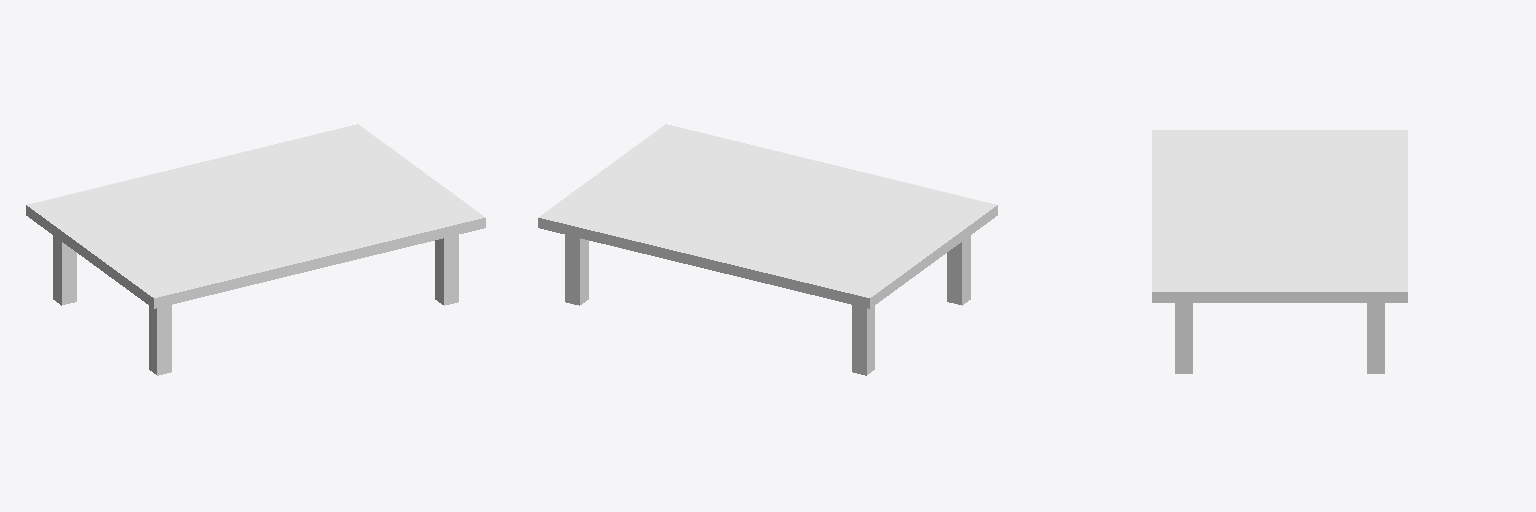
Rendered from Table2.obj.
3 renders of one model, left to right at view 1: azimuth 30°, elevation 25°; view 2: azimuth 150°, elevation 25°; view 3: azimuth 270°, elevation 25°, orthographic.
Visible parts, largest first — view 1: object 1; view 2: object 1; view 3: object 1.
Boxes of the visible parts, <box> form: object 1: <box>26,124,485,375</box>; object 1: <box>538,124,997,375</box>; object 1: <box>1152,130,1407,373</box>.
Bounding box in the file's own units: 6.6 × 1.7 × 4.4.